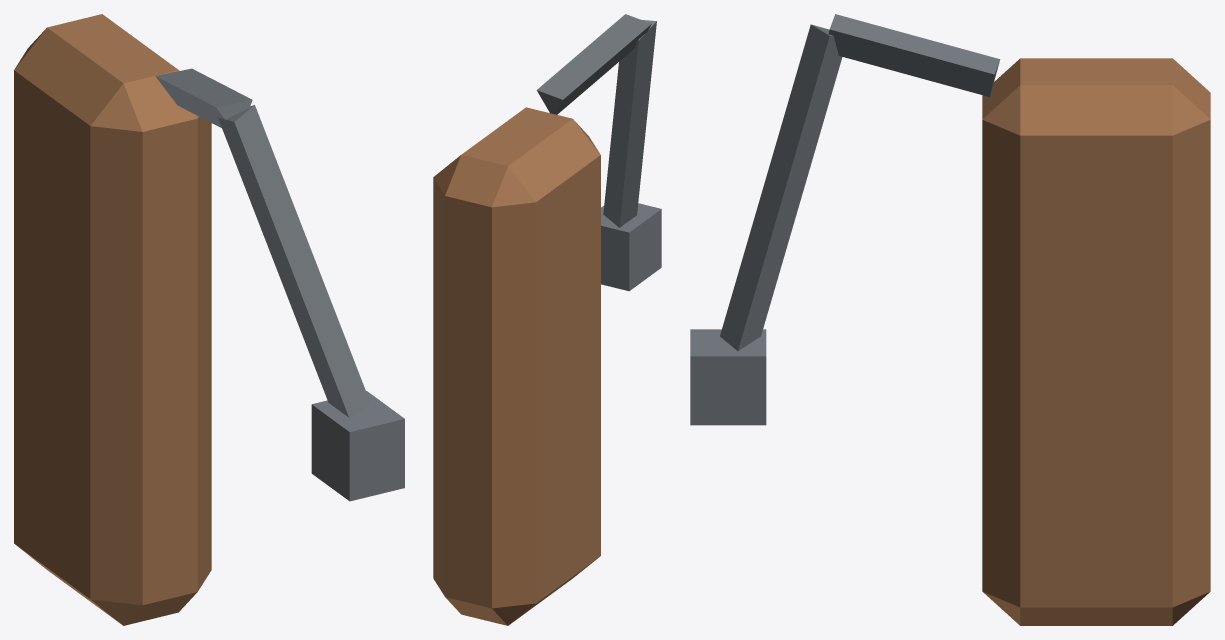
The model's file is hearing-aid.high.5c7f2d7f.glb.
The picture shows the model from 3 angles, left to right: view 1: azimuth 30°, elevation 25°; view 2: azimuth 150°, elevation 25°; view 3: azimuth 270°, elevation 25°; orthographic projection. The views are drawn at different scales.
Parts seen in each view (by area): view 1: hearing-aid; view 2: hearing-aid; view 3: hearing-aid.
Part boxes in pixels (<box>): hearing-aid: <box>14,14,404,625</box>; hearing-aid: <box>433,14,661,625</box>; hearing-aid: <box>690,14,1210,625</box>.
Size of the model in its own units: 0.0135 by 0.0509 by 0.041.
